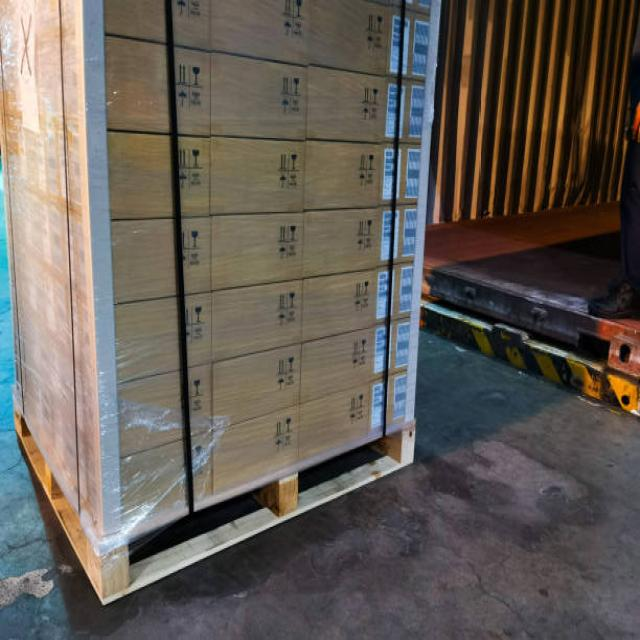Wooden-Pallets: (5, 411, 416, 607)
